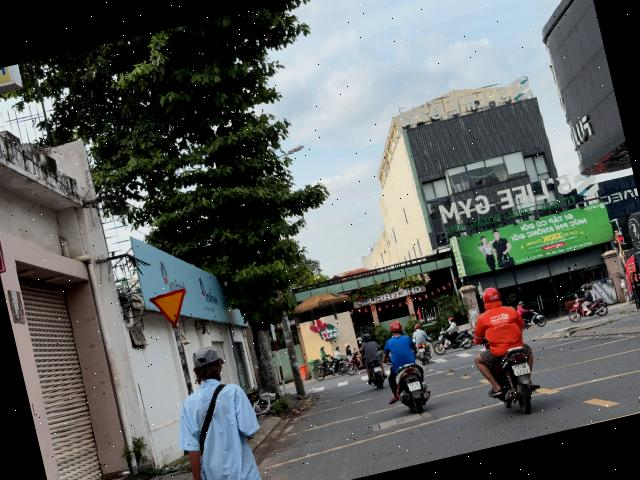giao-nhau-voi-duong-uu-tien: (148, 287, 193, 330)
